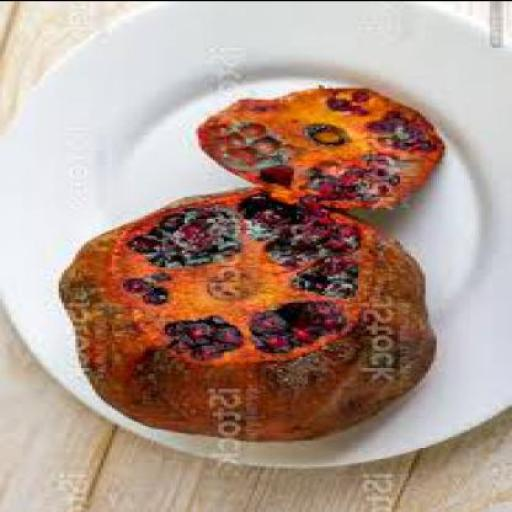biodegradable: (53, 184, 434, 440), (193, 82, 448, 205)
